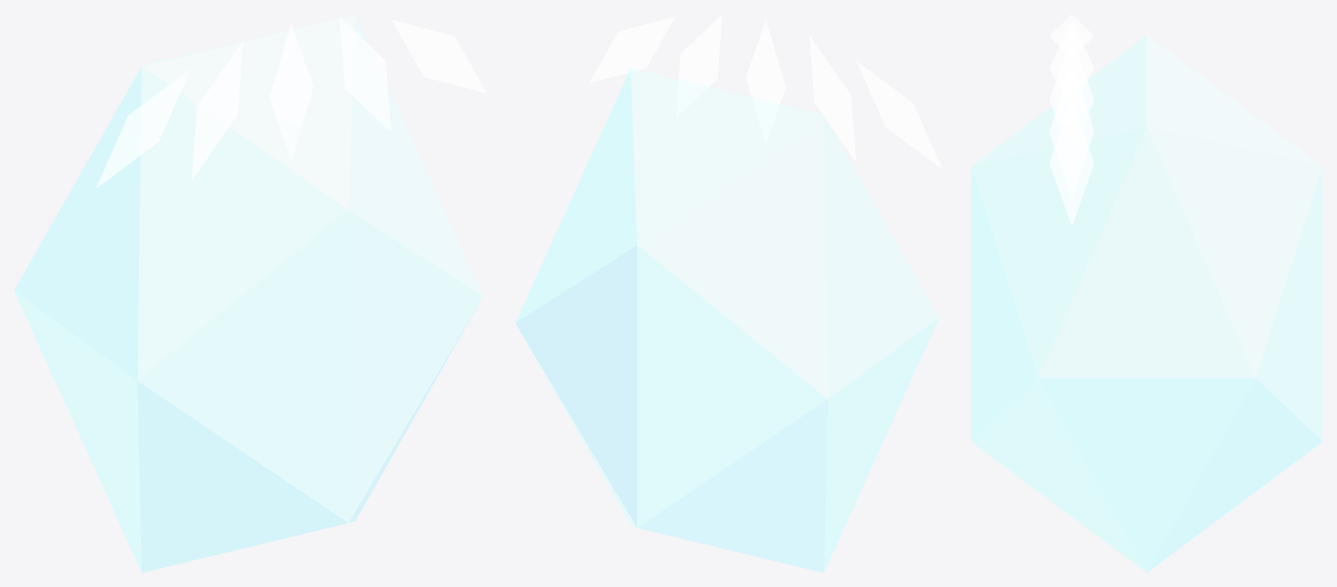
The model's file is fx_status_freeze.glb.
The picture shows the model from 3 angles, left to right: view 1: azimuth 30°, elevation 25°; view 2: azimuth 150°, elevation 25°; view 3: azimuth 270°, elevation 25°; orthographic projection. The views are drawn at different scales.
Parts seen in each view (by area): view 1: iceBlock_iceBlock, iceBlock_iceSpike; view 2: iceBlock_iceBlock, iceBlock_iceSpike; view 3: iceBlock_iceBlock, iceBlock_iceSpike.
Part boxes in pixels (x1,y1,x2,y2): iceBlock_iceBlock: (14,14,482,572); iceBlock_iceSpike: (96,17,486,188); iceBlock_iceBlock: (515,68,938,572); iceBlock_iceSpike: (589,14,942,168); iceBlock_iceBlock: (971,35,1322,572); iceBlock_iceSpike: (1049,14,1094,225).
Size of the model in its own units: 1.06 by 1.44 by 0.9357.
